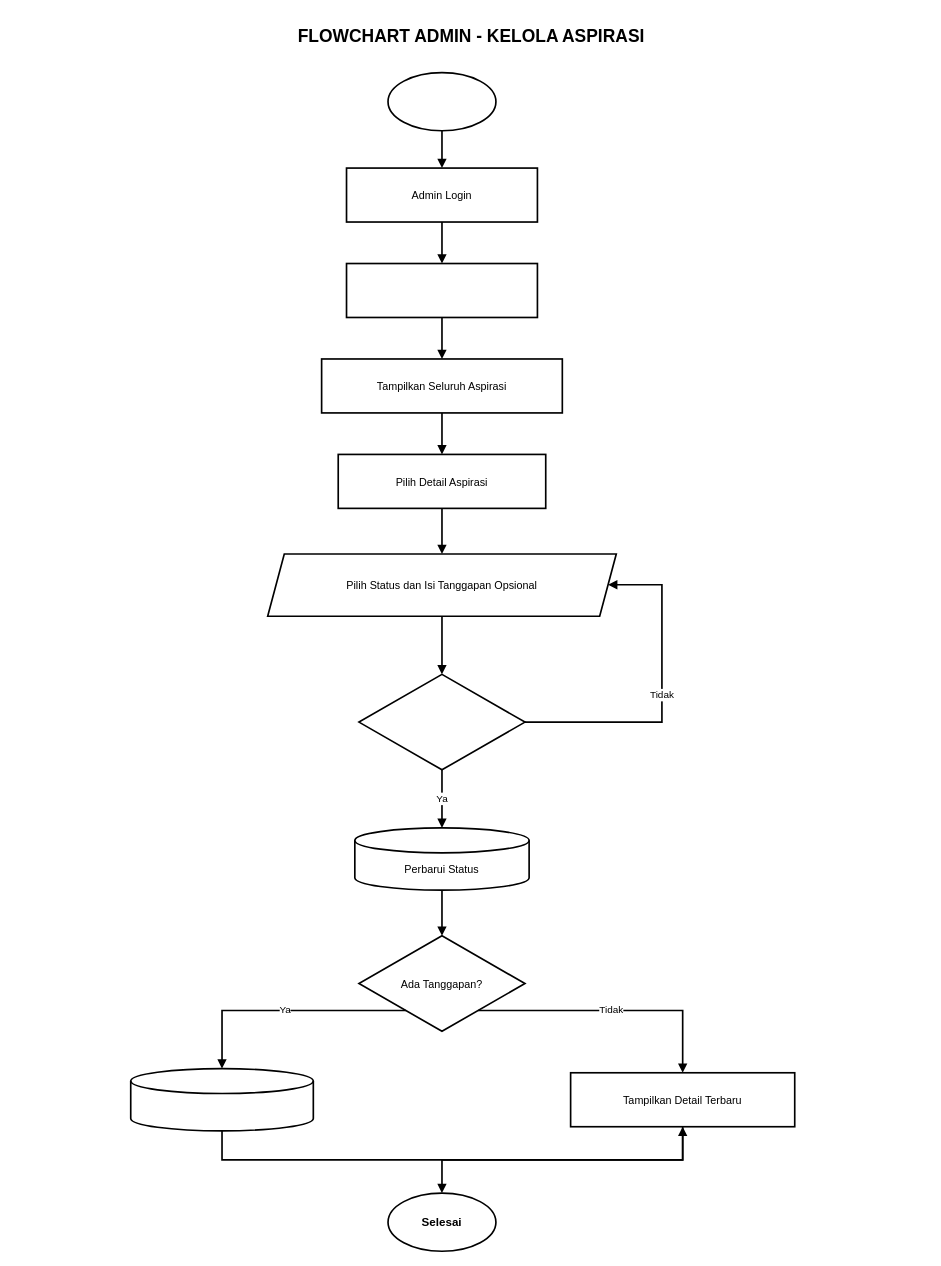
Image size: 941x1266. Some labels were removed from this diagram. The shapes that lost their labels are listed below. From the top down, each one's centre as x and y in pixels, then its label:
the point at 441,101: Mulai
the point at 441,290: Dashboard Admin
the point at 441,721: Status Valid?
the point at 221,1099: Simpan Tanggapan
